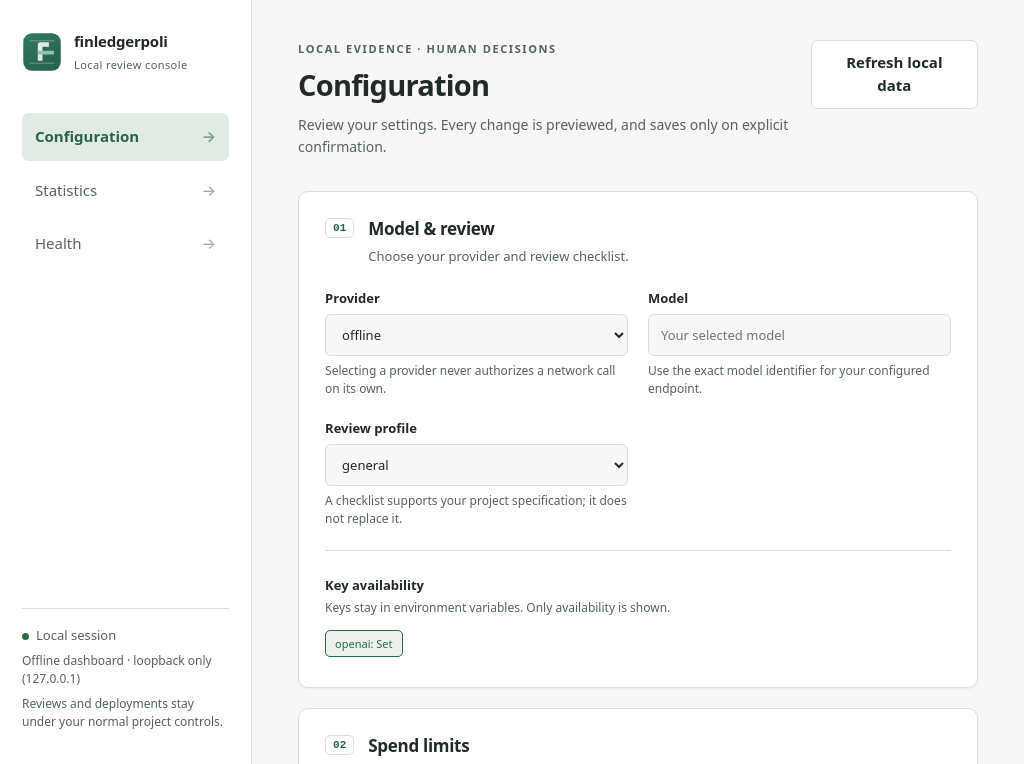
removes stale settings when a refresh discovers an invalid configuration
Expected: the field labelled "Model" is shown, top-left (648, 314), bottom-right (951, 356)
Click the button "Refresh local data": coordinates (894, 74) top-left (811, 40), bottom-right (978, 108)
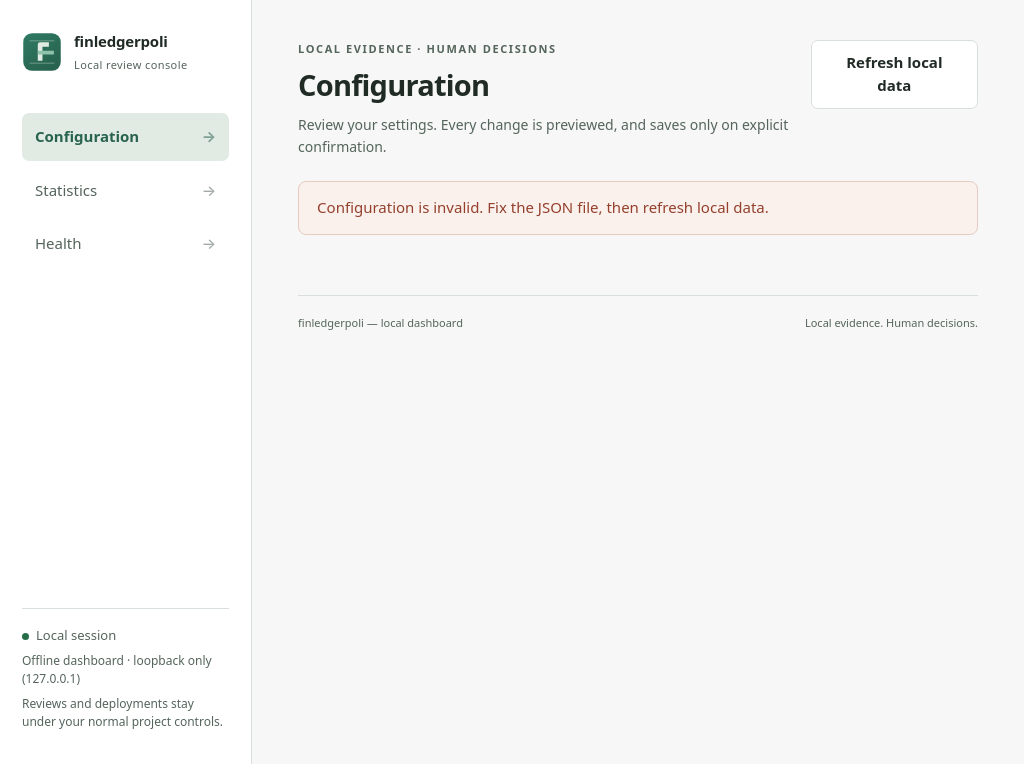
Expected: the message "Configuration is invalid. Fix the JSON file, then refresh local data." is shown, top-left (298, 181), bottom-right (978, 235)
Expected: the heading labelled "Model" is gone
